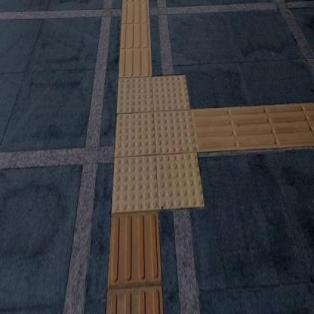Podoctatil: (94, 44, 220, 231), (196, 98, 313, 157), (107, 214, 165, 313), (119, 0, 152, 76)
